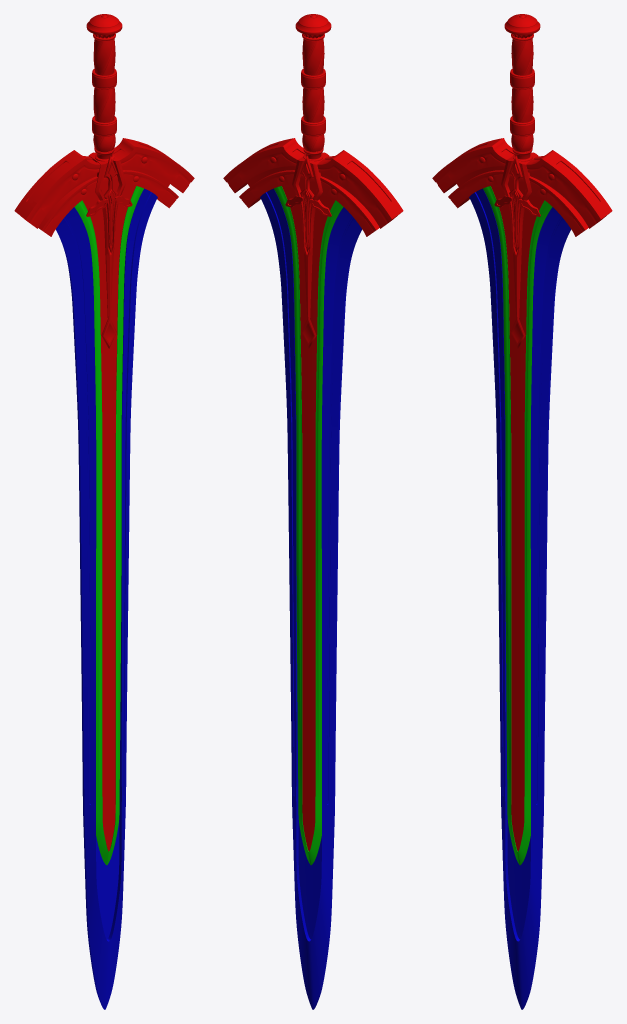
File: TemplarKnight_Sword.FBX
3 renders of one model, left to right at view 1: azimuth 30°, elevation 25°; view 2: azimuth 150°, elevation 25°; view 3: azimuth 330°, elevation 25°, orthographic.
Parts seen in each view (by area): view 1: TemplarKnight_Sword; view 2: TemplarKnight_Sword; view 3: TemplarKnight_Sword.
Part boxes in pixels (x1,y1,x2,y2): TemplarKnight_Sword: (14,14,194,1009); TemplarKnight_Sword: (223,14,403,1009); TemplarKnight_Sword: (432,14,612,1009).
Size of what is drawn, in the model's own units: 27.77 by 5.05 by 156.
